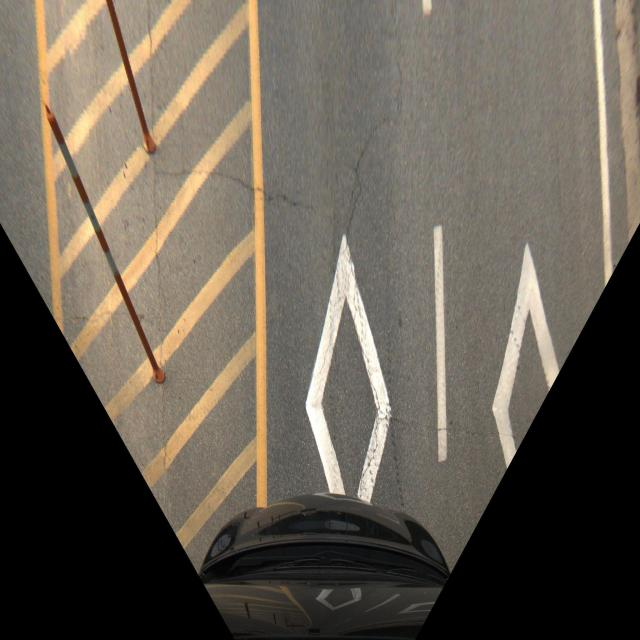diamond: (258, 232, 449, 480)
